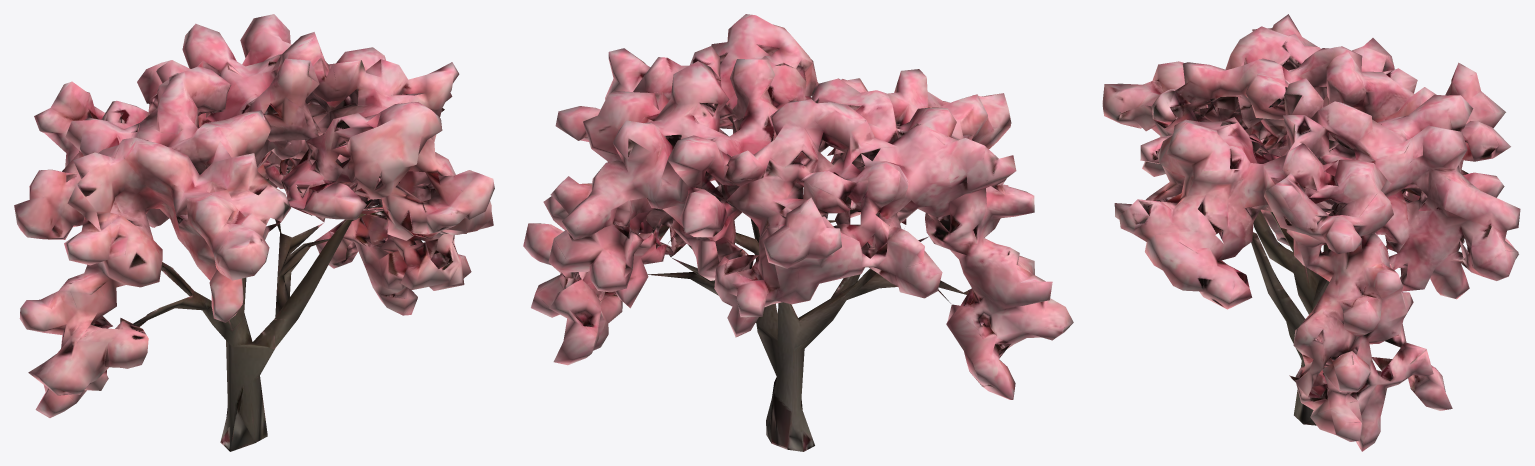
Rendered from sakura-tree-optimized.glb.
3 renders of one model, left to right at view 1: azimuth 30°, elevation 25°; view 2: azimuth 150°, elevation 25°; view 3: azimuth 270°, elevation 25°, orthographic. The views are drawn at different scales.
Bounding box in the file's own units: 1.88 × 1.37 × 1.44.
1 material, 1 textured.
